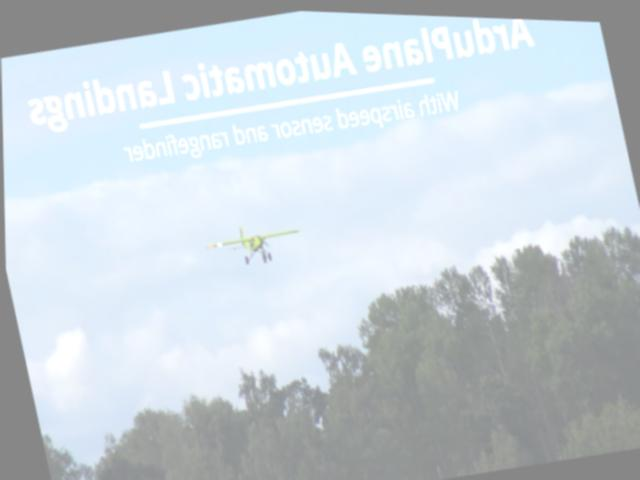plane: (202, 214, 303, 272)
